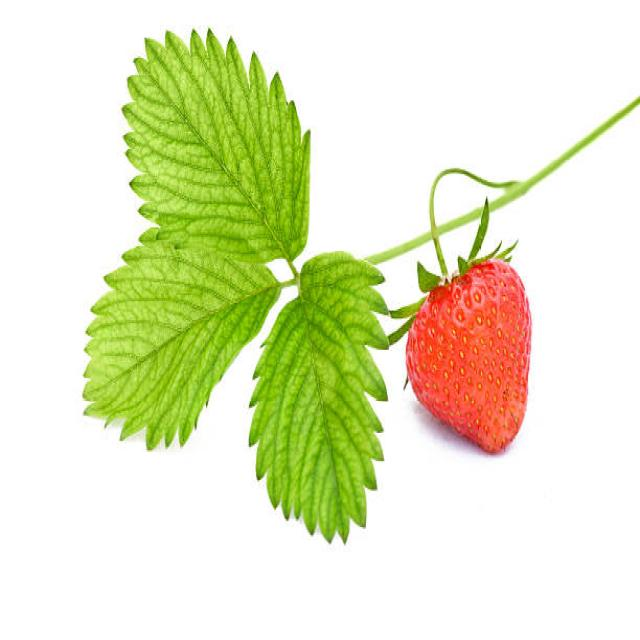Healthy Fruit: (405, 257, 534, 456)
